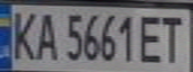1: (115, 11, 139, 62)
5: (60, 9, 84, 62)
6: (81, 10, 103, 62), (100, 11, 121, 63)
A: (30, 8, 60, 62)
E: (136, 11, 169, 64)
K: (6, 7, 39, 61)
T: (157, 11, 190, 64)
